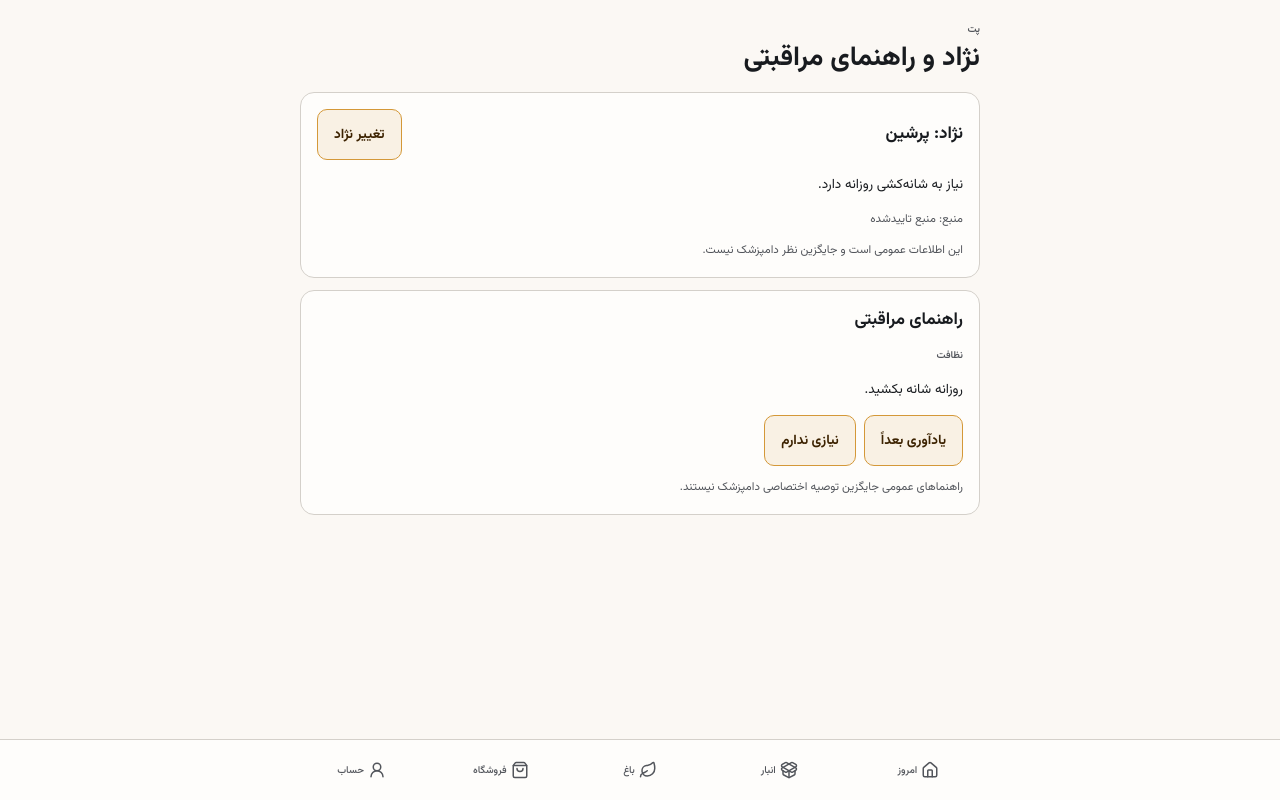
Scenario: PetCare › renders approved guidance and dismisses it through the real backend endpoint
Expected: the text "روزانه شانه بکشید." is shown, [865,379,963,400]
Click the button "نیازی ندارم". click: (810, 440)
box: [764,415,856,466]
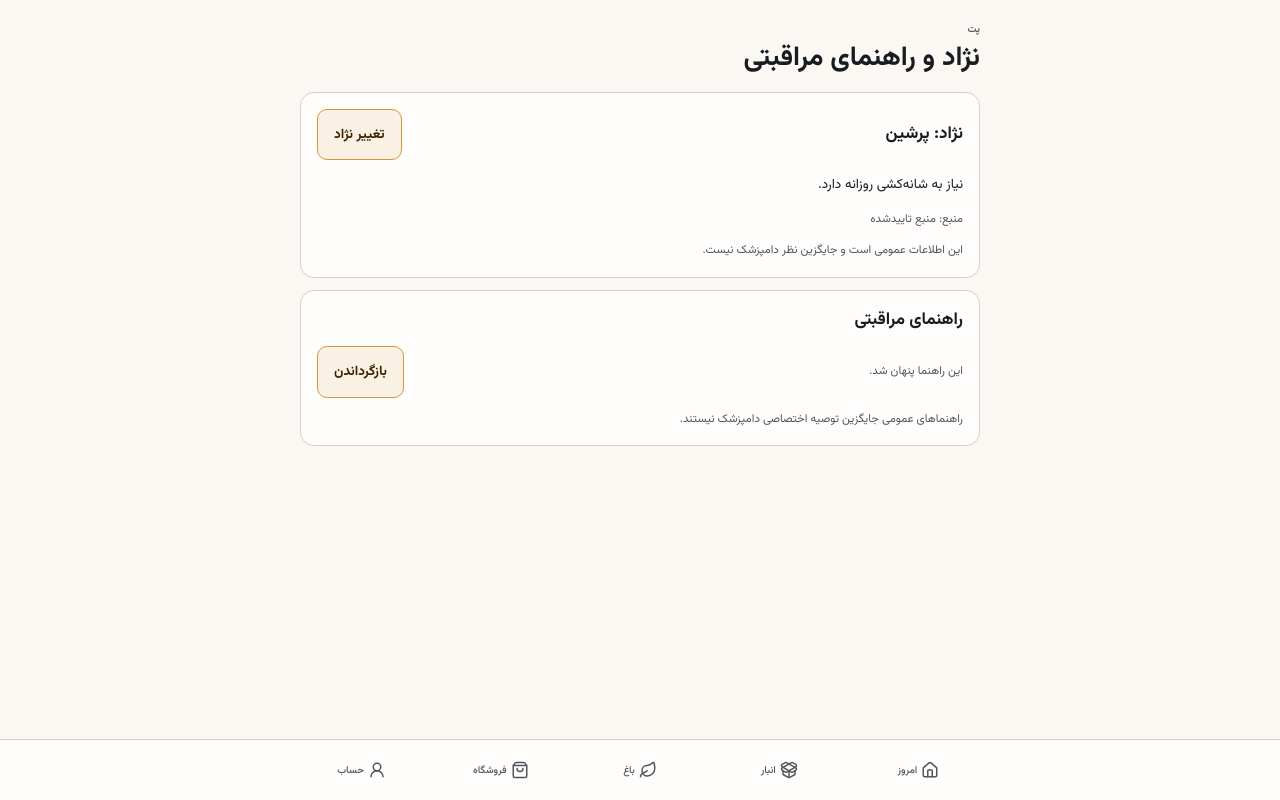
Now the text "این راهنما پنهان شد." is shown, box [869,362,963,382]
